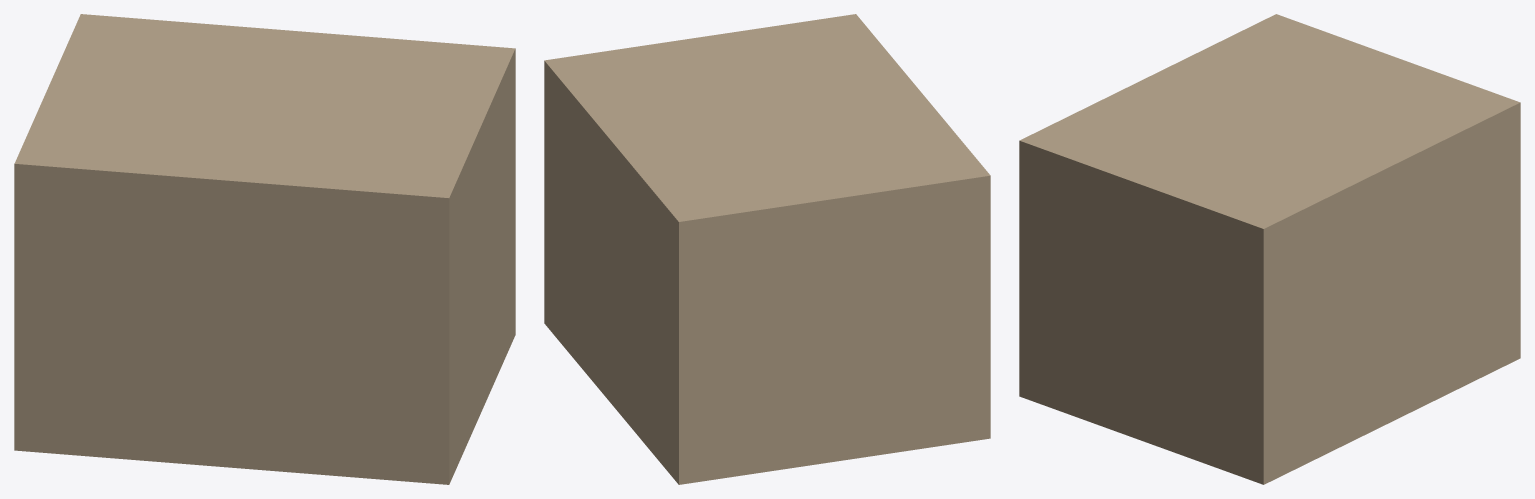
The model's file is bld_104408975.dae.
The picture shows the model from 3 angles, left to right: view 1: azimuth 30°, elevation 25°; view 2: azimuth 150°, elevation 25°; view 3: azimuth 270°, elevation 25°; orthographic projection. The views are drawn at different scales.
Visible parts, largest first — view 1: bld_104408975; view 2: bld_104408975; view 3: bld_104408975.
Boxes of the visible parts, box(x1,y1,x2,y2) form: bld_104408975: box(14, 14, 515, 484); bld_104408975: box(544, 14, 990, 484); bld_104408975: box(1019, 14, 1520, 484).
Size of the model in its own units: 12.62 by 12.43 by 7.
